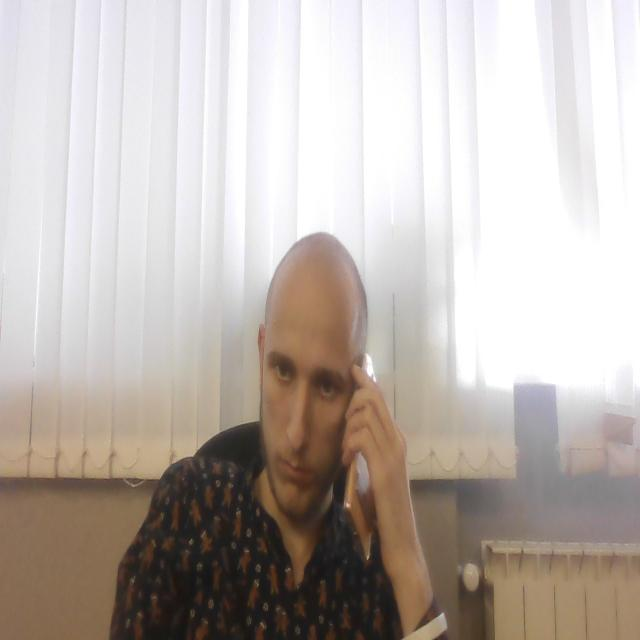phone: (344, 350, 393, 565)
